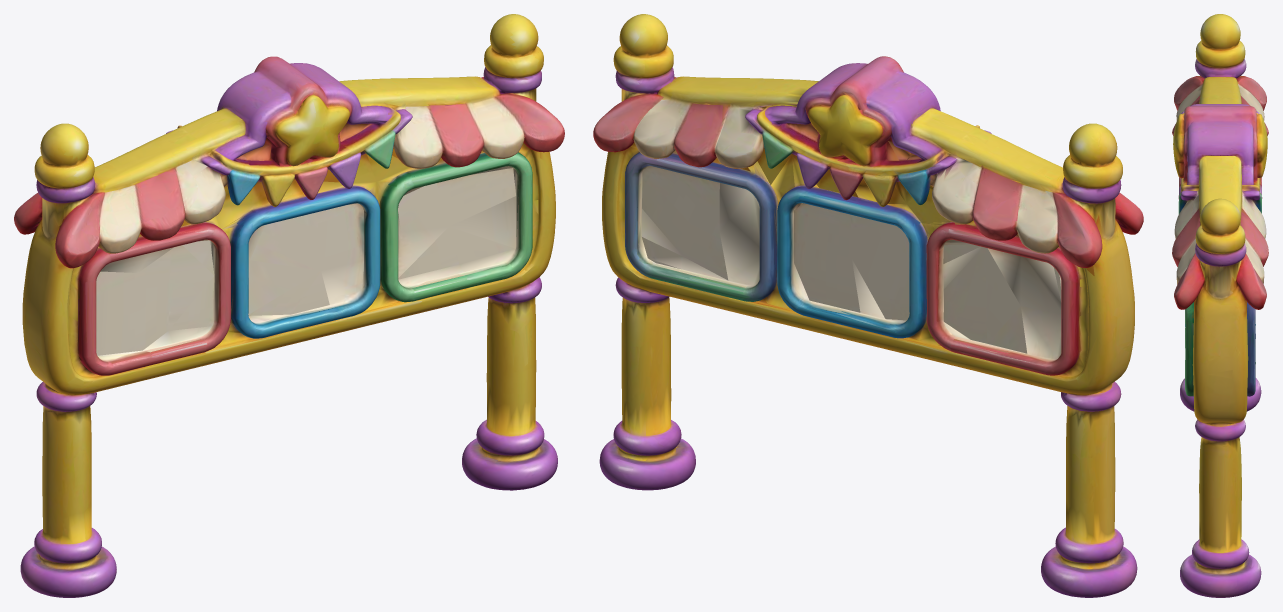
Rendered from board.glb.
The picture shows the model from 3 angles, left to right: view 1: azimuth 30°, elevation 25°; view 2: azimuth 150°, elevation 25°; view 3: azimuth 270°, elevation 25°; orthographic projection. The views are drawn at different scales.
Visible parts, largest first — view 1: tripo_node_ef86b5e0-c452-41db-92c1-084589032f4c; view 2: tripo_node_ef86b5e0-c452-41db-92c1-084589032f4c; view 3: tripo_node_ef86b5e0-c452-41db-92c1-084589032f4c.
Part boxes in pixels (<box>): tripo_node_ef86b5e0-c452-41db-92c1-084589032f4c: <box>14,14,564,597</box>; tripo_node_ef86b5e0-c452-41db-92c1-084589032f4c: <box>593,14,1143,597</box>; tripo_node_ef86b5e0-c452-41db-92c1-084589032f4c: <box>1172,14,1268,597</box>.
Bounding box in the file's own units: 0.98 × 0.8148 × 0.186.
Materials: 1 (1 with a texture image).
